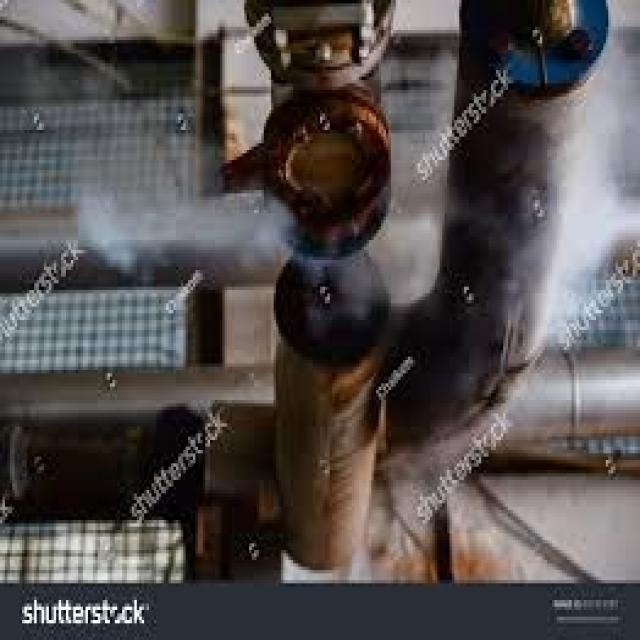corrosion: (243, 185, 589, 483)
